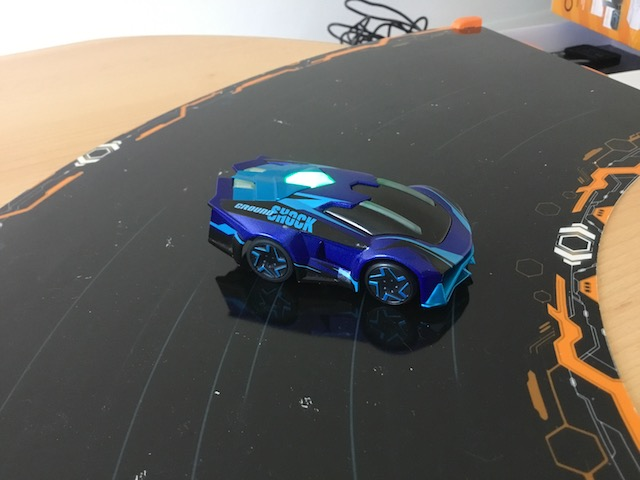car-blue: (203, 151, 479, 316)
